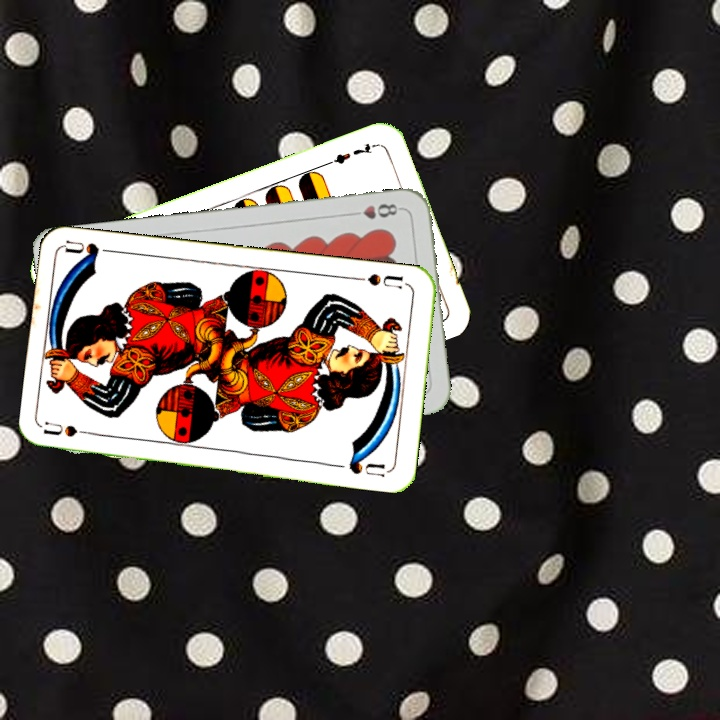E7: (324, 139, 381, 168)
H8: (345, 199, 404, 222)
SU: (42, 418, 102, 439), (351, 270, 406, 291)
